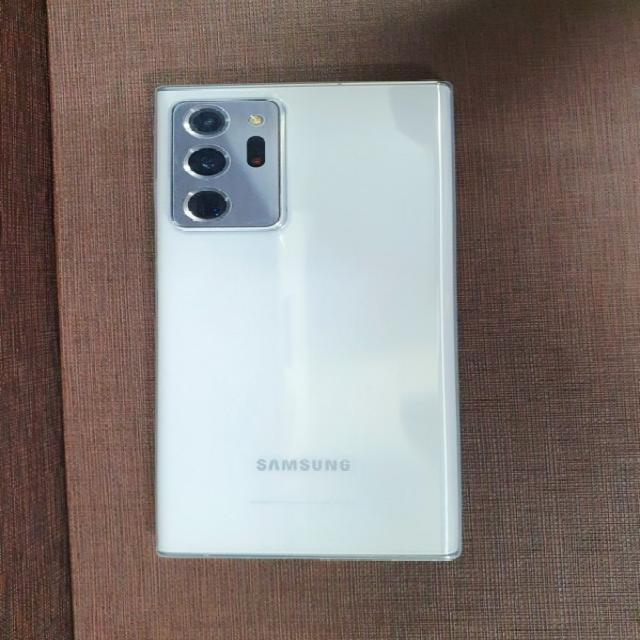phone: (145, 76, 468, 564)
